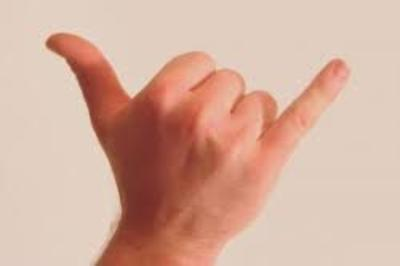mindinho: (273, 56, 363, 154)
